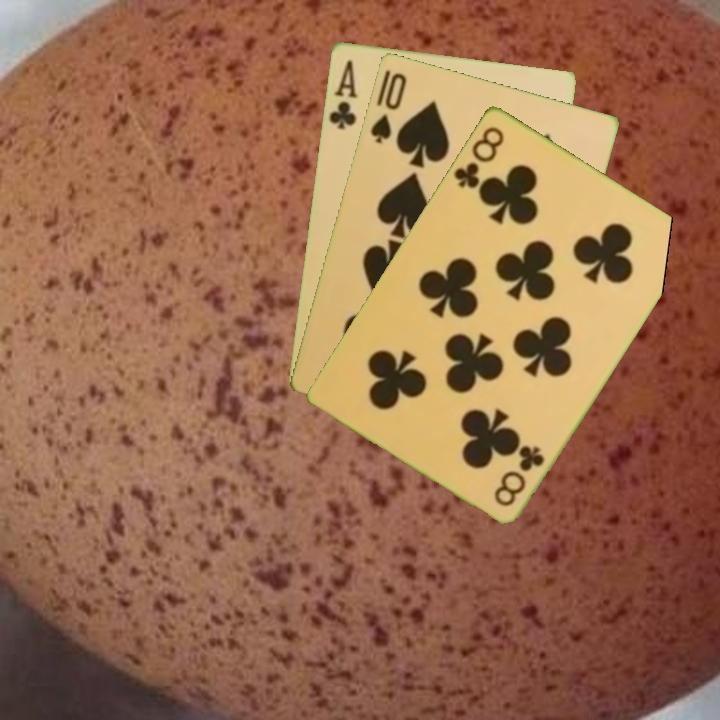10s: (366, 69, 409, 146)
8c: (449, 122, 507, 191), (490, 441, 548, 509)
Ac: (325, 55, 360, 132)
